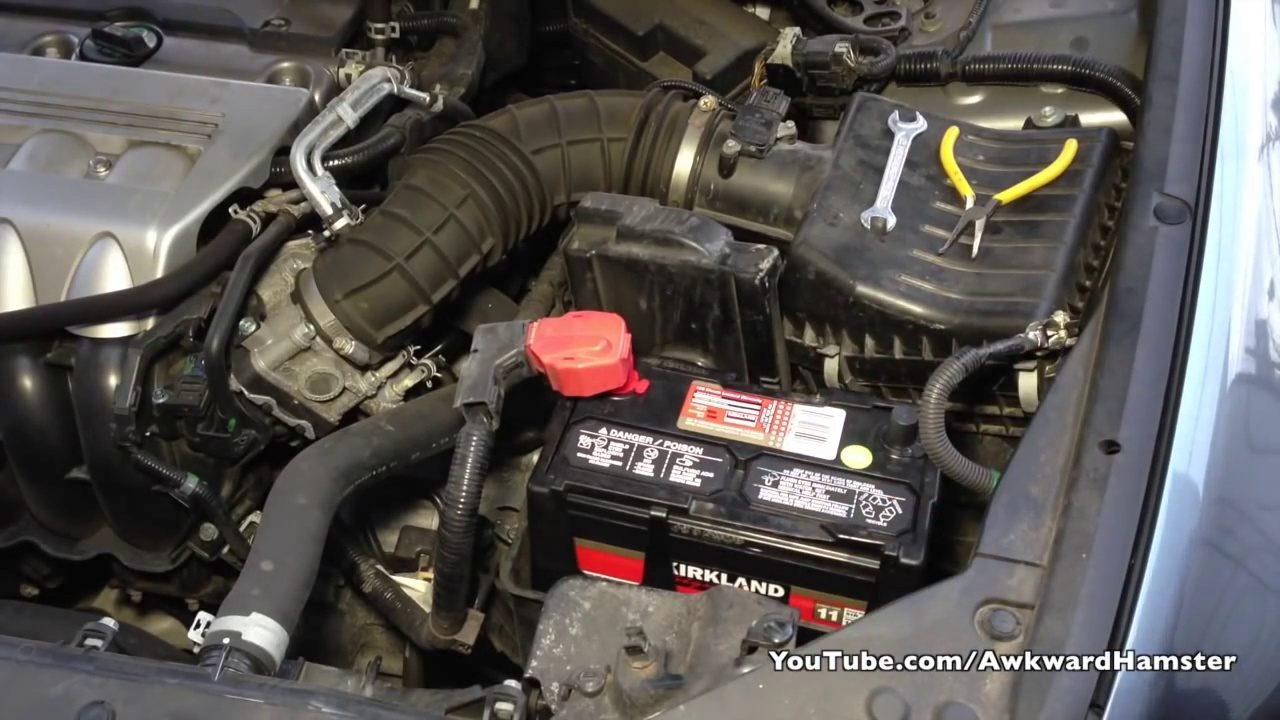battery: (532, 337, 937, 566)
pos_connected: (492, 301, 675, 423)
